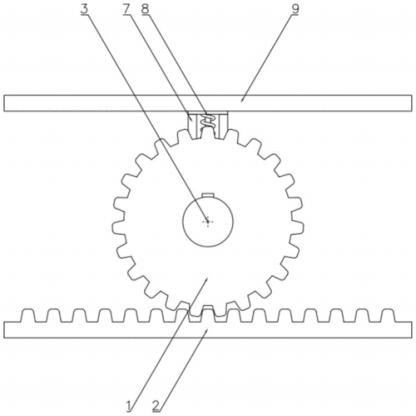FOD: (108, 123, 305, 316)
